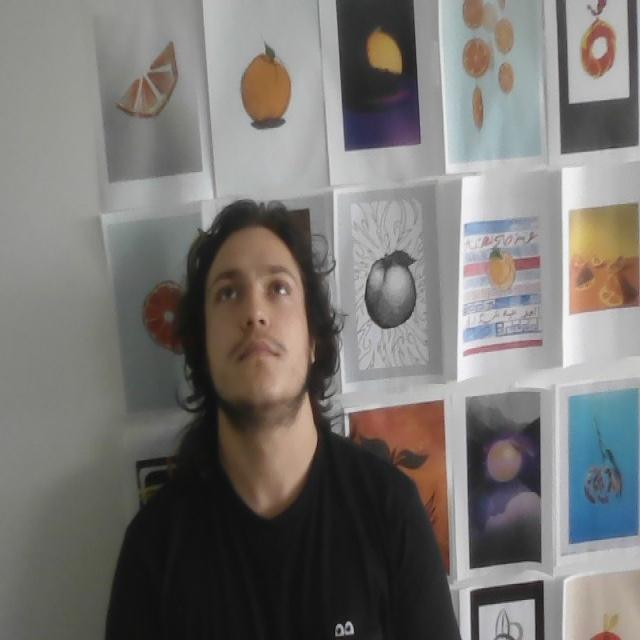opened_eye: (262, 278, 294, 302), (218, 282, 242, 304)
